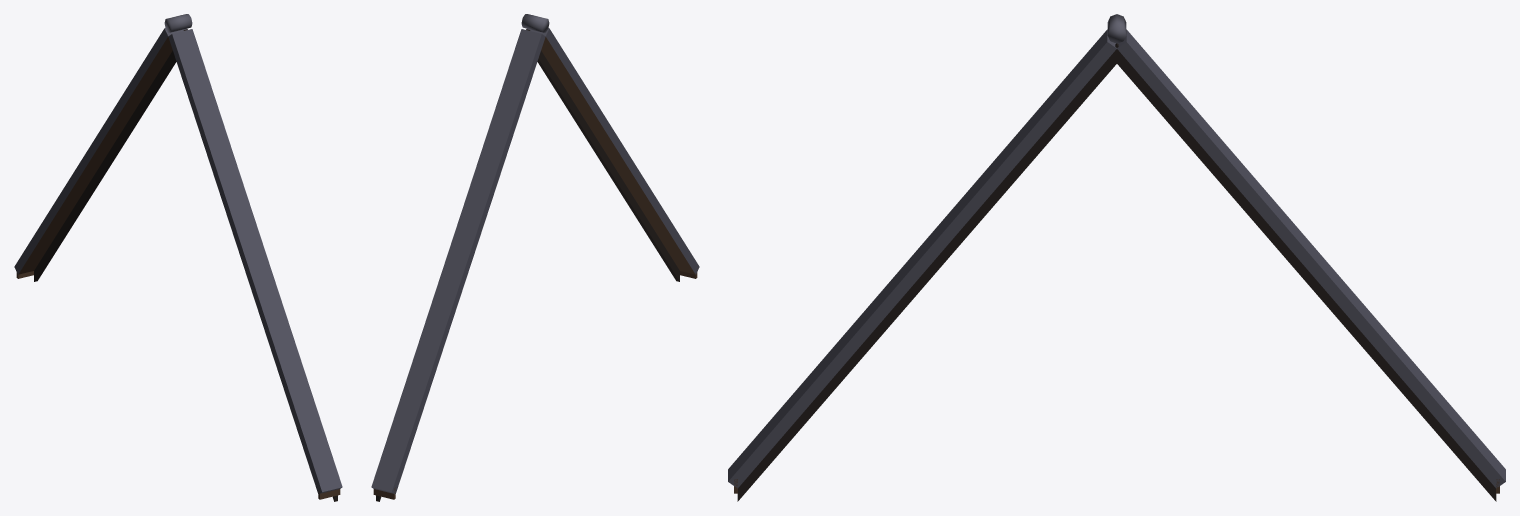
The model's file is kit_church_slate_w5_end.glb.
The picture shows the model from 3 angles, left to right: view 1: azimuth 30°, elevation 25°; view 2: azimuth 150°, elevation 25°; view 3: azimuth 270°, elevation 25°; orthographic projection. The views are drawn at different scales.
Parts seen in each view (by area): view 1: kit_church_slate_w5_end; view 2: kit_church_slate_w5_end; view 3: kit_church_slate_w5_end.
Boxes of the visible parts, box(x1,y1,x2,y2) form: kit_church_slate_w5_end: box(14, 14, 342, 501); kit_church_slate_w5_end: box(371, 14, 699, 501); kit_church_slate_w5_end: box(728, 14, 1505, 501).
Bounding box in the file's own units: 0.22 × 3.88 × 5.74.
